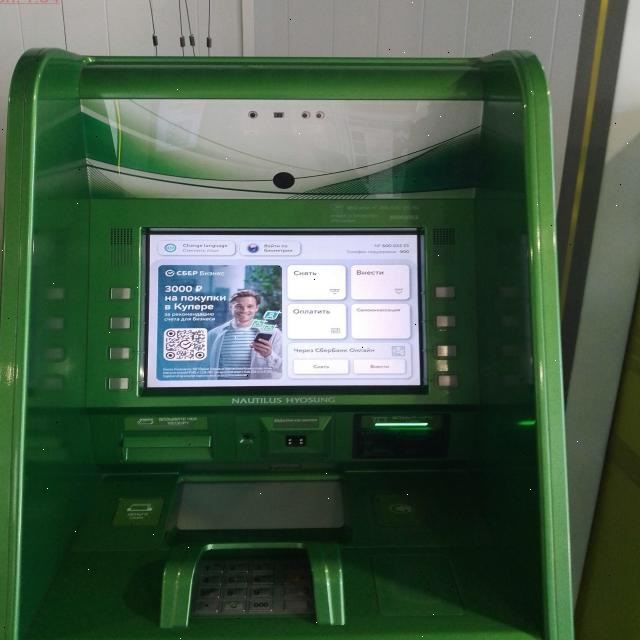bank: (0, 50, 578, 640)
